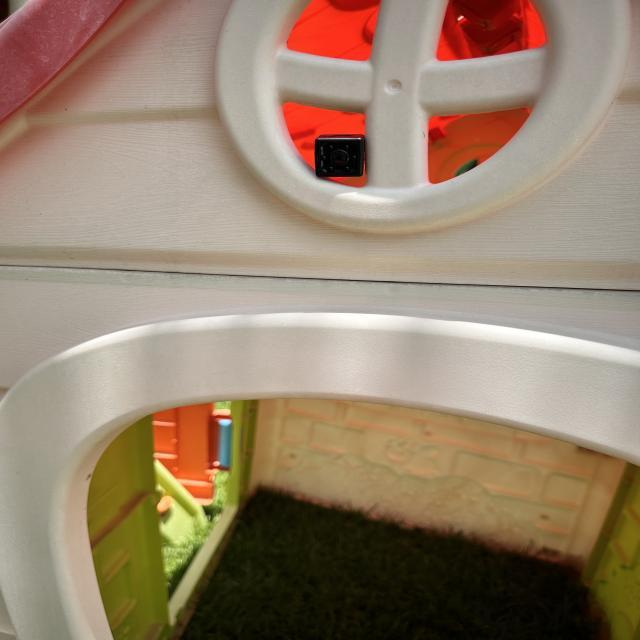hidden camera: (330, 150, 348, 165)
